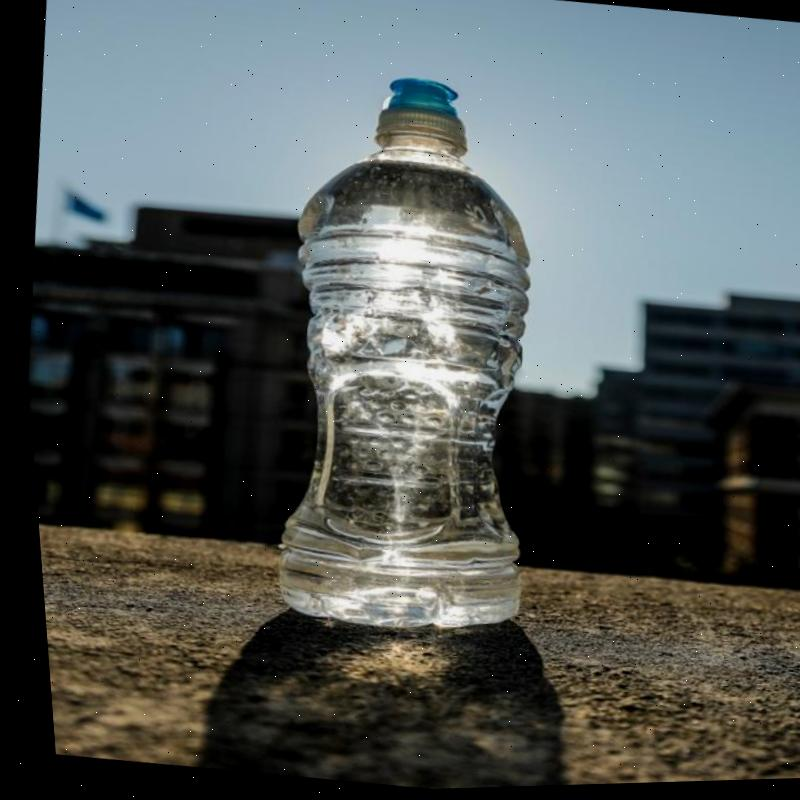botella: (228, 56, 582, 645)
